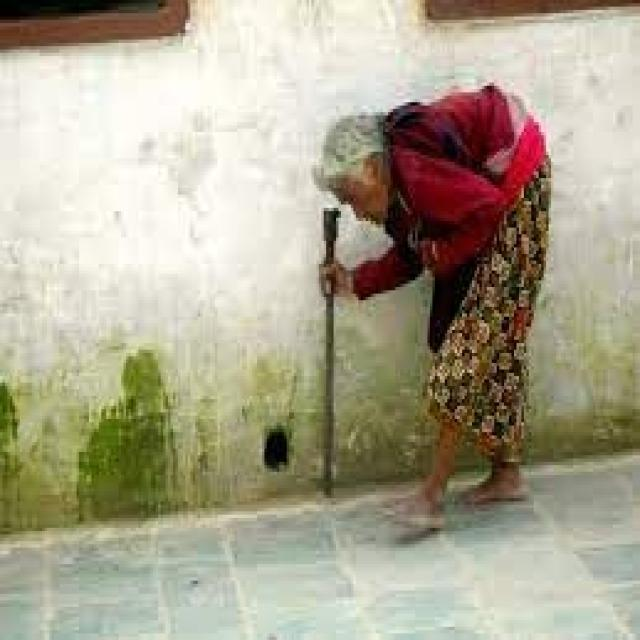idoso em pe: (310, 61, 556, 526)
